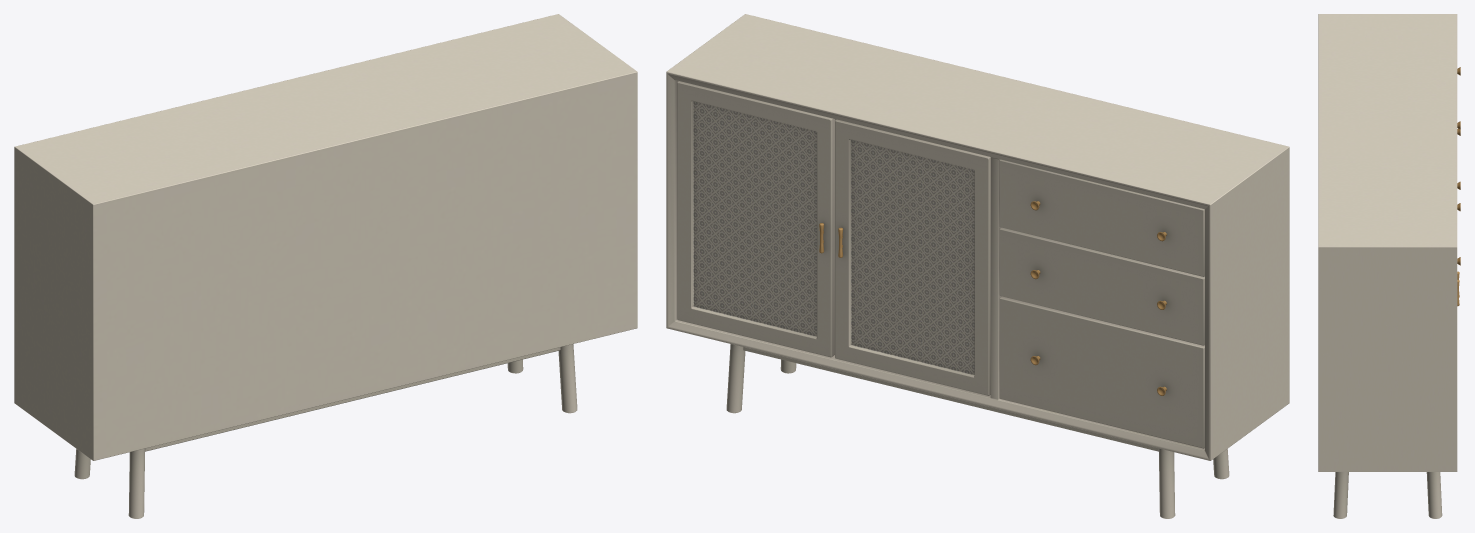
The model's file is accent_cabinet.fbx.
3 renders of one model, left to right at view 1: azimuth 30°, elevation 25°; view 2: azimuth 150°, elevation 25°; view 3: azimuth 270°, elevation 25°, orthographic. The views are drawn at different scales.
Parts seen in each view (by area): view 1: accent_cabinet_pfo_bsw; view 2: accent_cabinet_pfo_bsw; view 3: accent_cabinet_pfo_bsw.
Part boxes in pixels (x1=…): accent_cabinet_pfo_bsw: x1=14, y1=14, x2=637, y2=518; accent_cabinet_pfo_bsw: x1=666, y1=14, x2=1289, y2=518; accent_cabinet_pfo_bsw: x1=1318, y1=14, x2=1460, y2=518.
Bounding box in the file's own units: 139 × 81.28 × 35.77.
